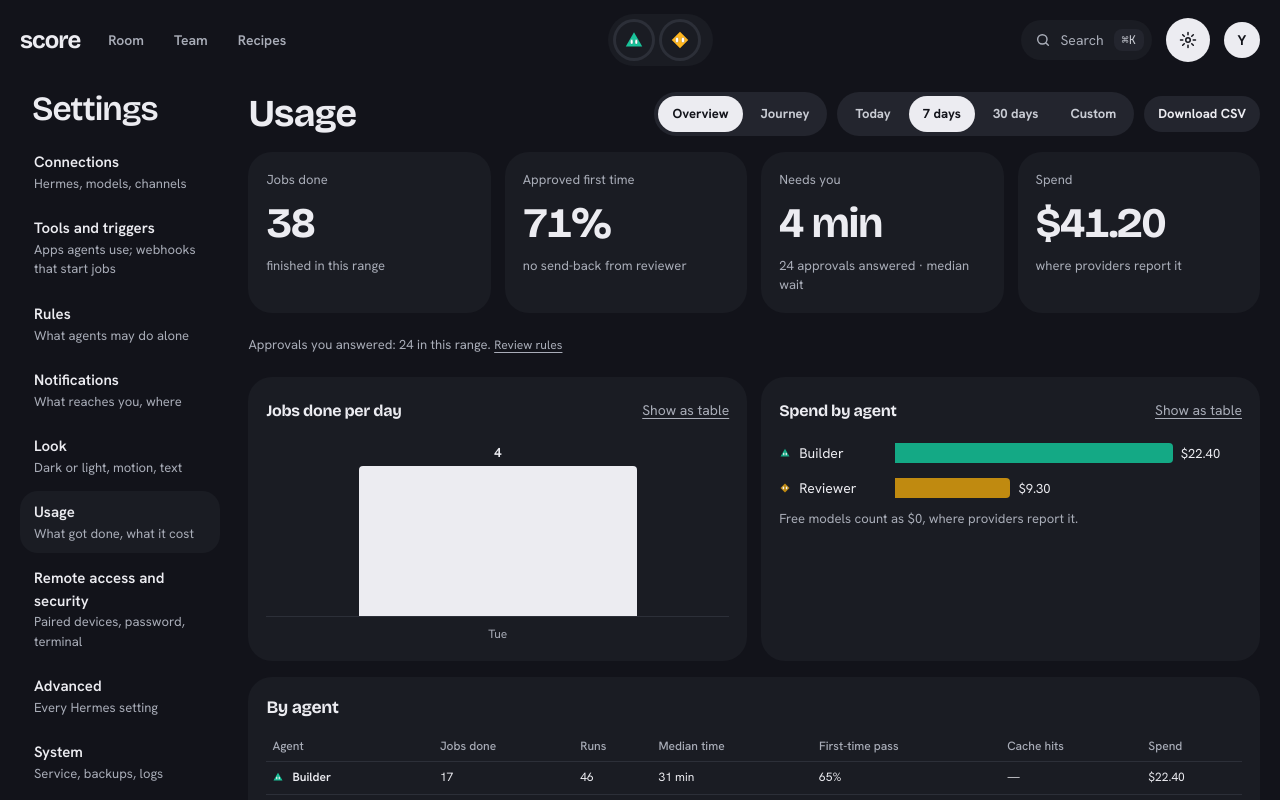
Scenario: Custom range refuses a first day after the last day
The width and height of the screenshot is (1280, 800).
Expected: the element named "Usage in numbers" is shown, 248,152 -> 1260,313
Click the button "Custom".
click(1093, 114)  # box 1056,96 -> 1130,132
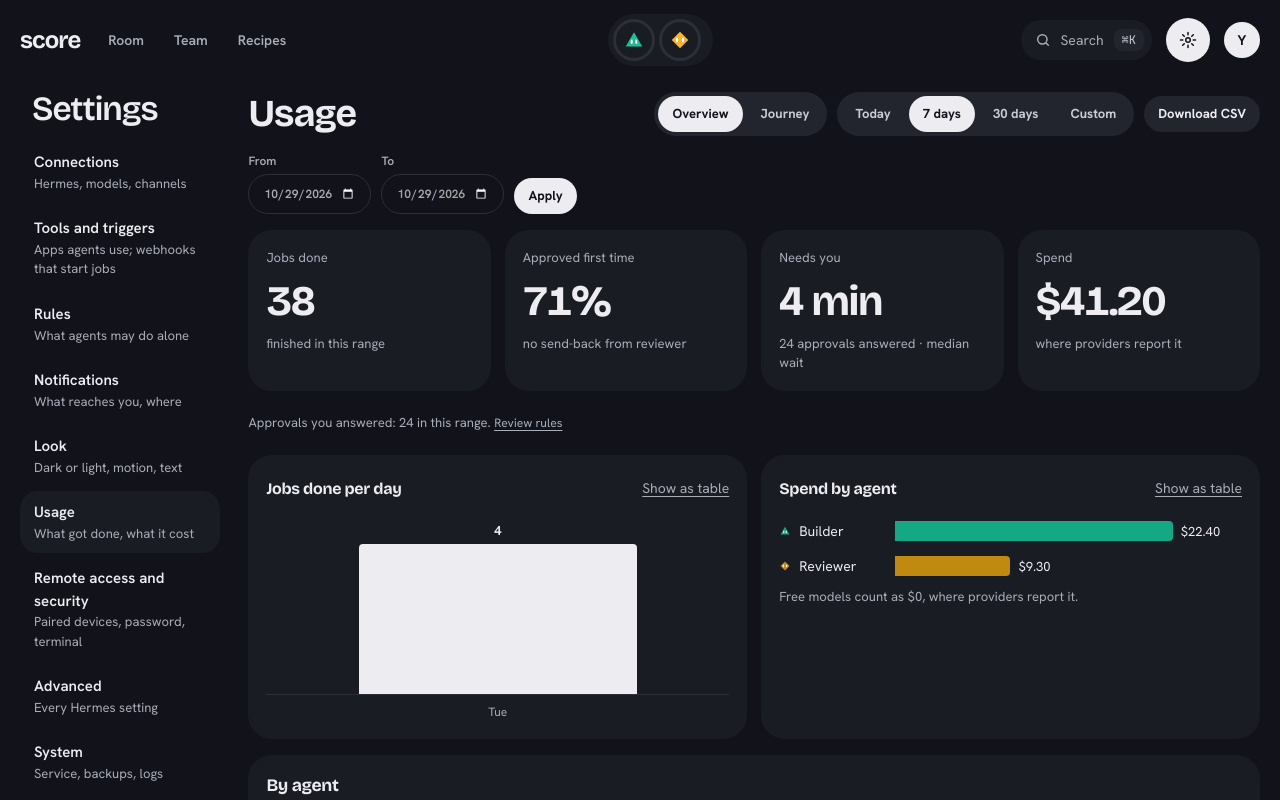
Type "2026-02-10" into the date field labelled "From".
click(310, 194); type("2026-02-10")  # box 248,174 -> 371,214
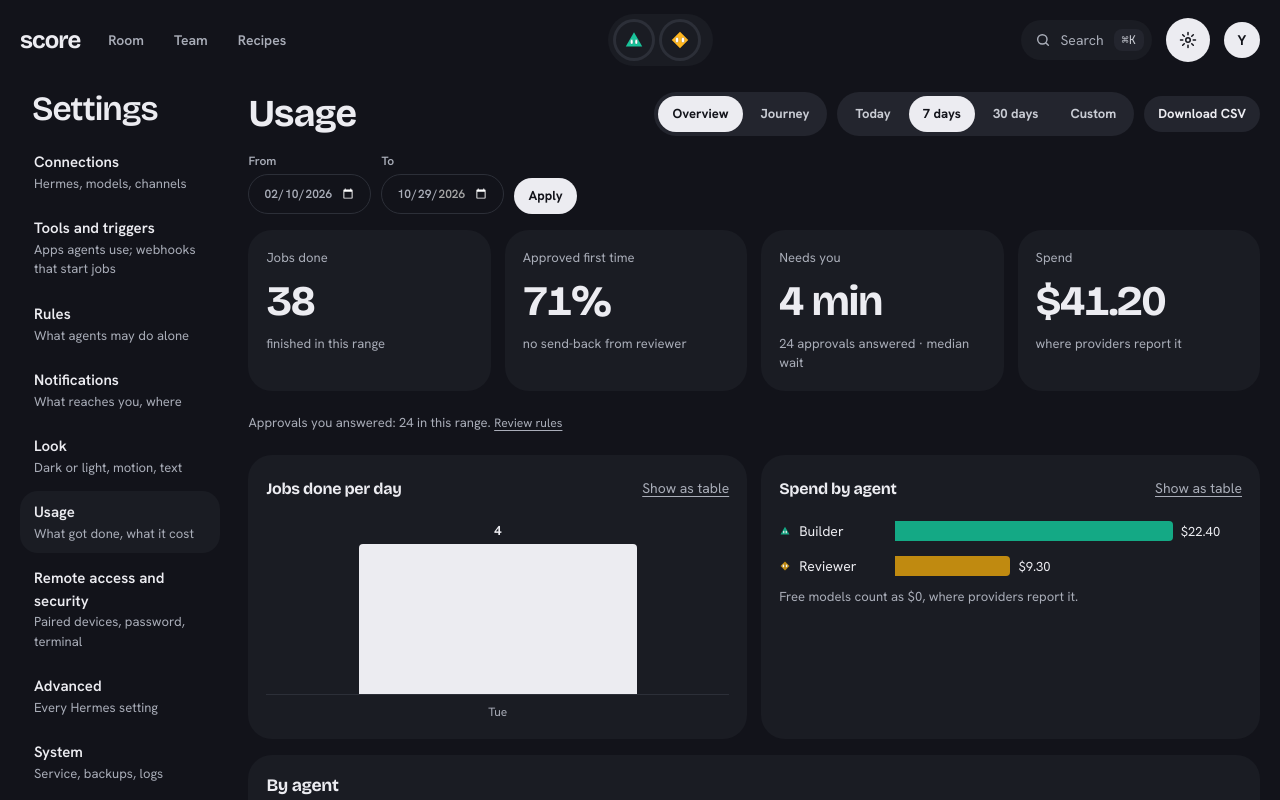
Type "2026-02-01" into the date field labelled "To".
click(443, 194); type("2026-02-01")  # box 381,174 -> 504,214
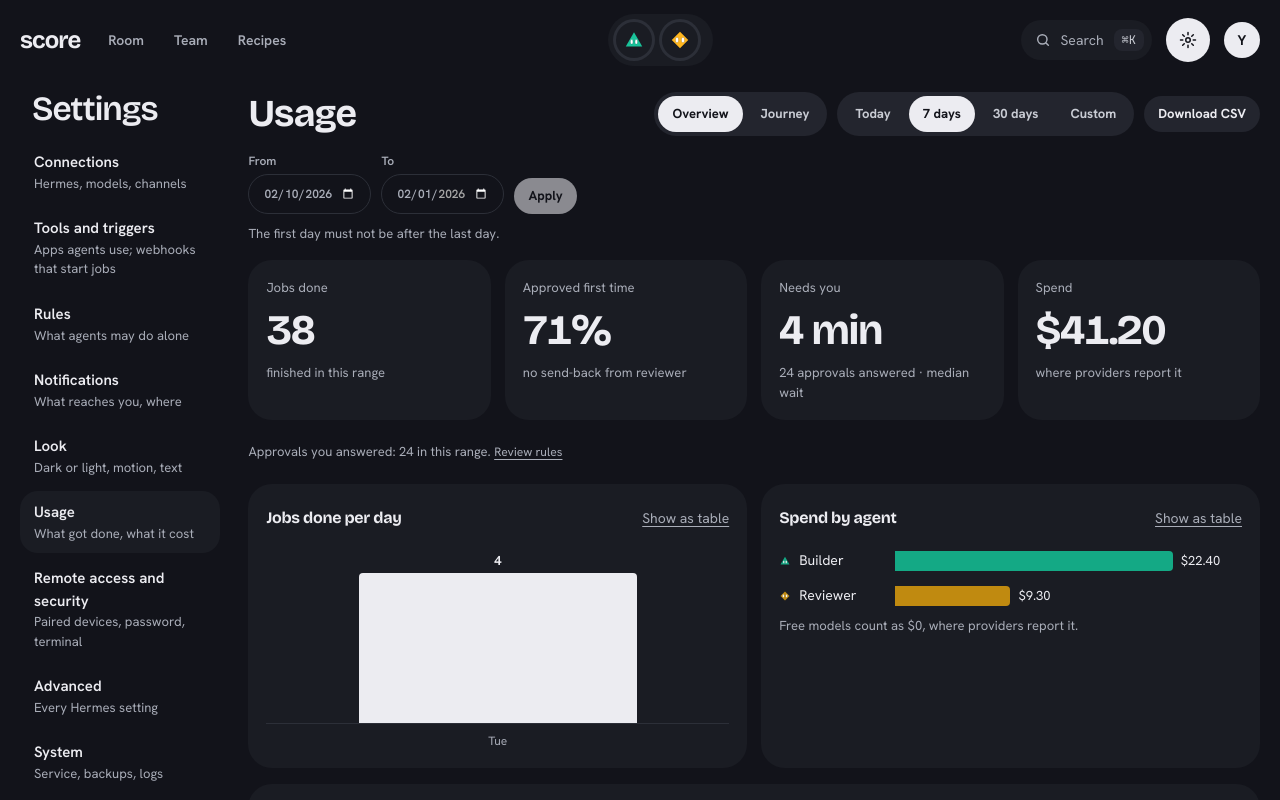
Expected: the message shows "must not be after", 248,225 -> 499,242
Expected: the button "Apply" is disabled, 514,178 -> 577,214
